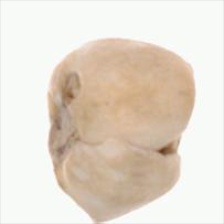L3: (154, 109, 191, 180)
L4: (46, 38, 196, 223)
